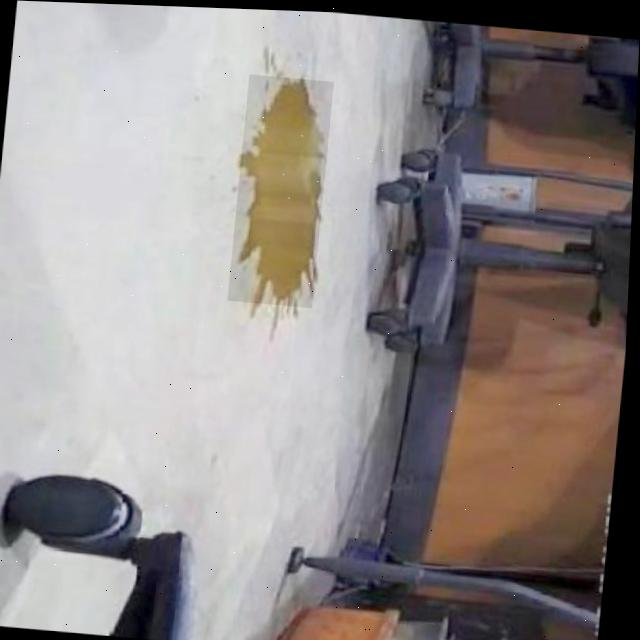spillage: (237, 77, 322, 303)
